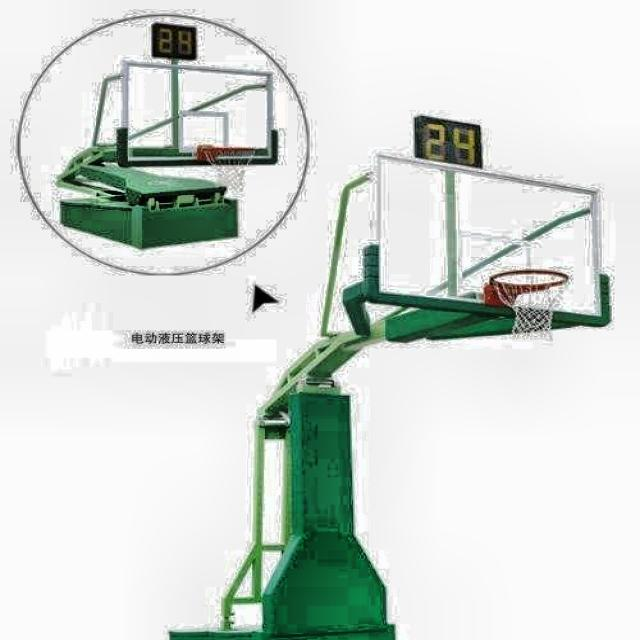rim: (494, 268, 568, 335)
